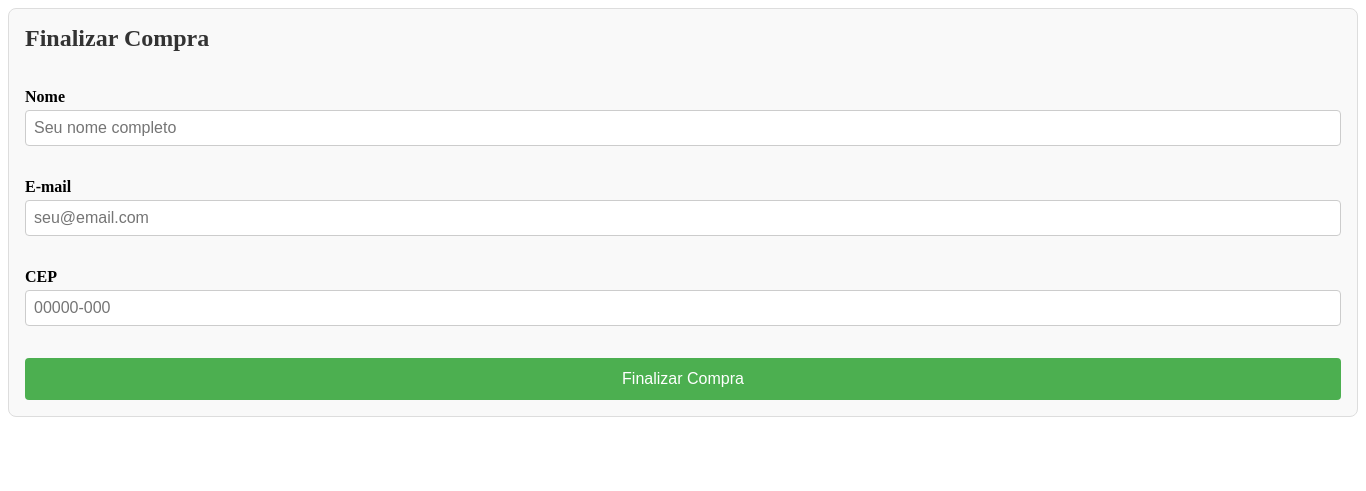
CheckoutForm › exibe erro quando o CEP tem menos de 8 dígitos
Type "1234" into the field labelled "CEP" at (683,308), box [25,290,1341,326]
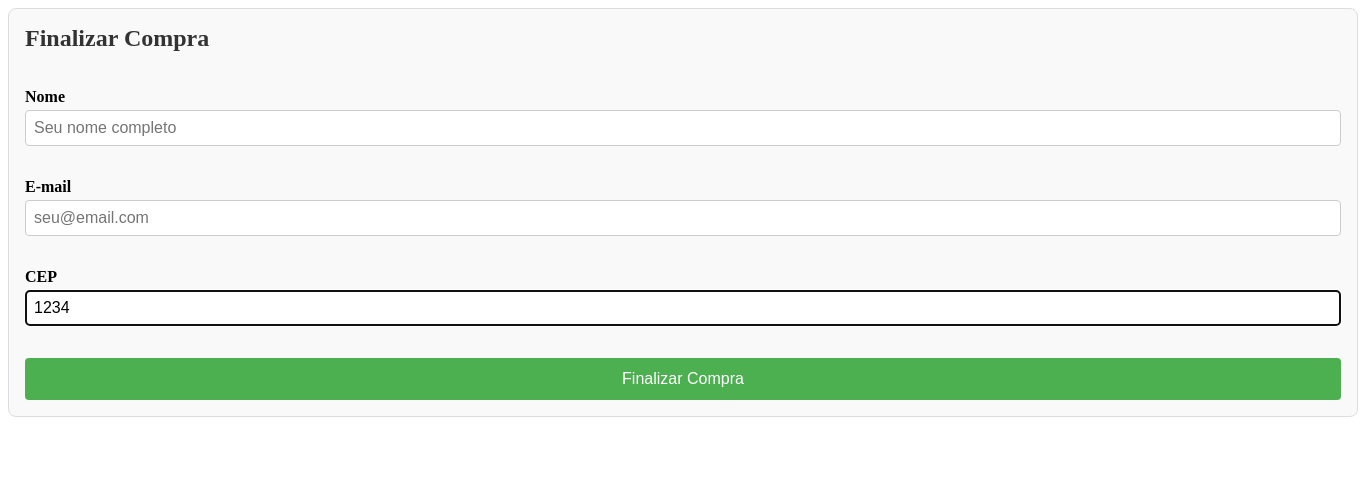
Click the button "Finalizar Compra" at (683,379), box [25,358,1341,400]
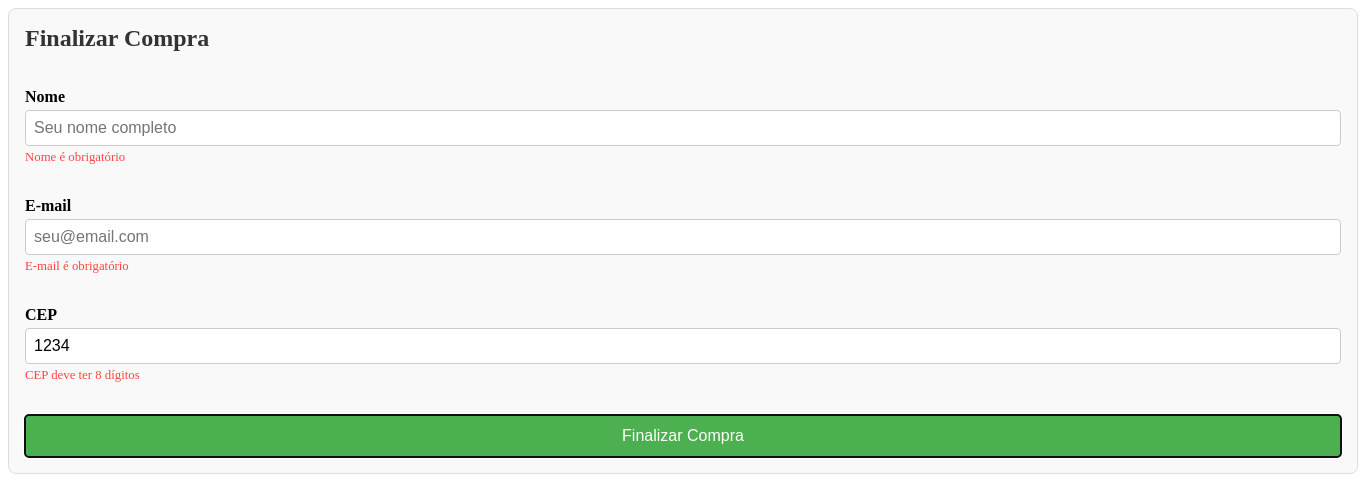
Now the text "CEP deve ter 8 dígitos" is shown, box [25,368,140,382]
